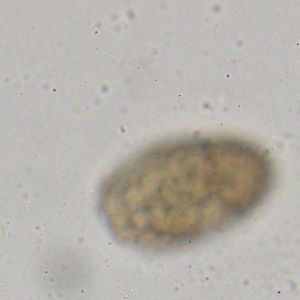Fasciola_hepatica_egg: (97, 135, 272, 248)
